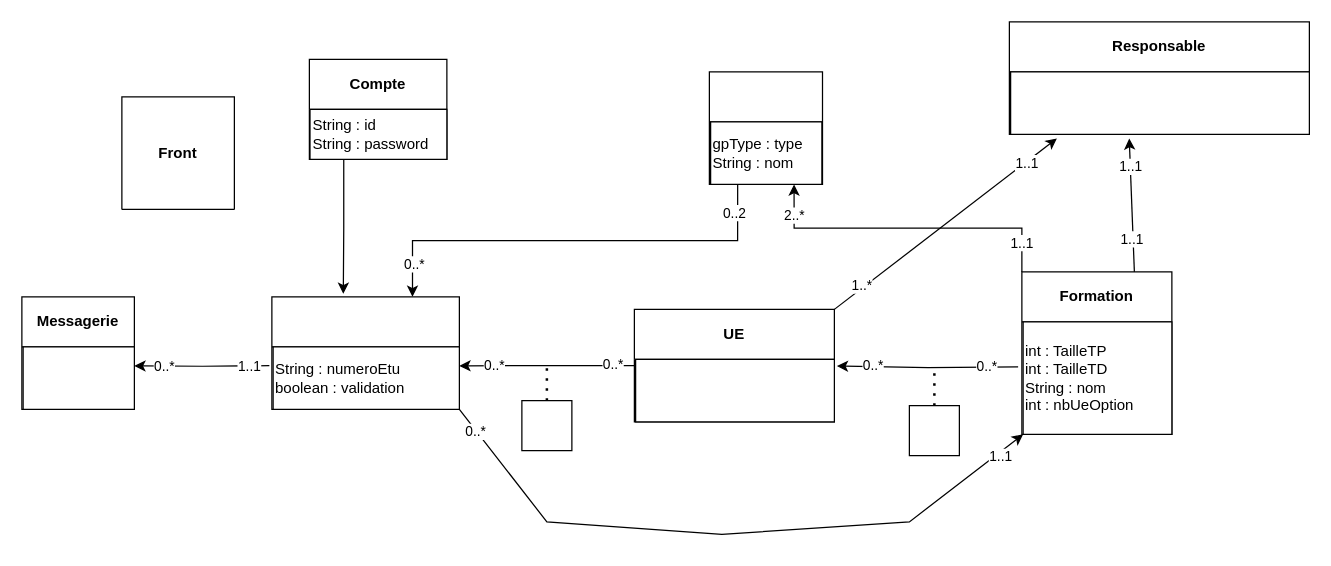
The diagram is 1331 pixels wide and 566 high, and some of its shapes have lost their labels. The box of each missing label's shape, as (x1, y1, x2, y2) in pixels:
boolean : estObligatoire int : capacite String : nom: (634, 358, 834, 422)
Etudiant: (271, 296, 459, 409)
Groupe: (708, 71, 822, 184)
String : nom String : email: (1009, 71, 1309, 134)
String : txt boolean : lu: (22, 346, 134, 409)
